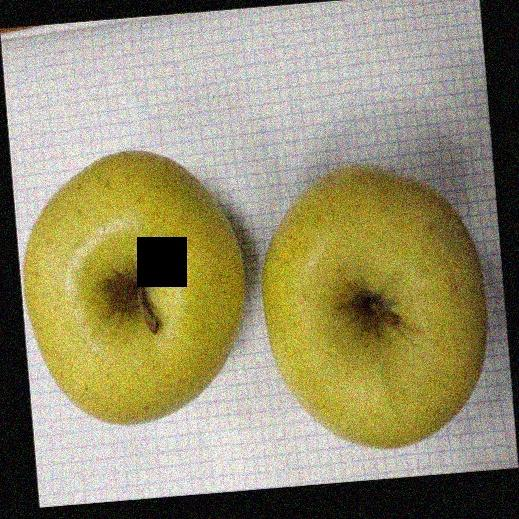green apple: (261, 156, 487, 453), (23, 150, 247, 424)
